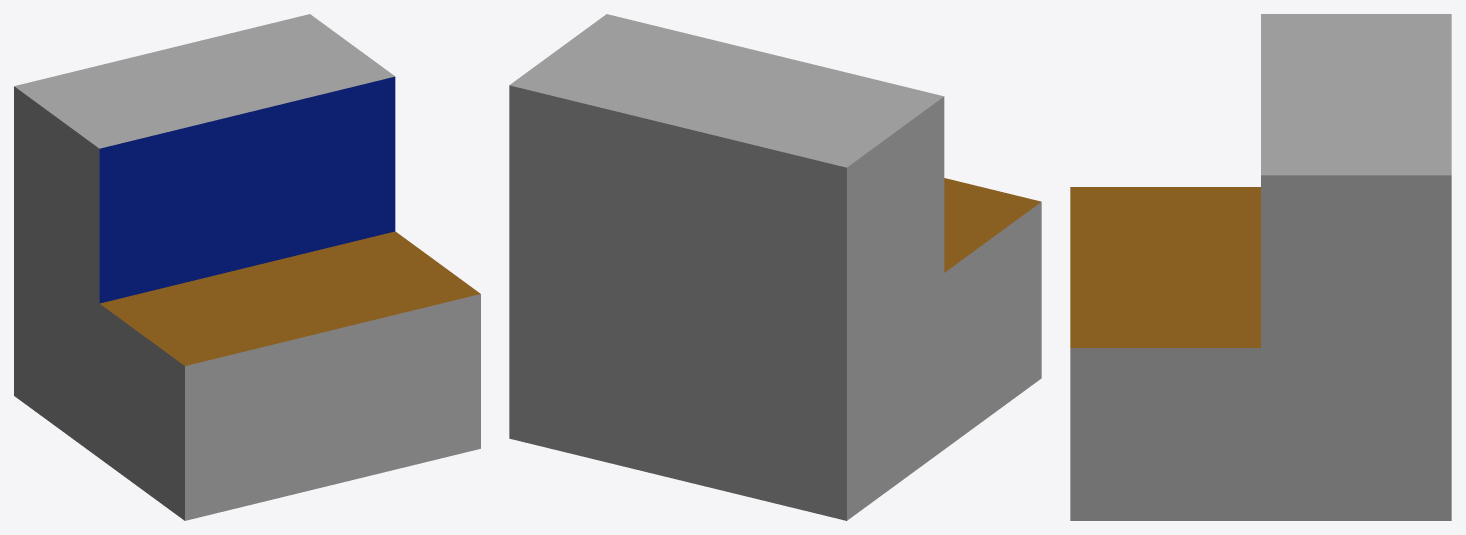
File: case_63.fbx
3 views of the same model, side by side, from view 1: azimuth 30°, elevation 25°; view 2: azimuth 150°, elevation 25°; view 3: azimuth 270°, elevation 25° (orthographic). The views are drawn at different scales.
Parts seen in each view (by area): view 1: case_63; view 2: case_63; view 3: case_63.
Part boxes in pixels (box(x1,y1,x2,y2)): case_63: box(14, 14, 480, 520); case_63: box(509, 14, 1041, 520); case_63: box(1070, 14, 1451, 520).
Bounding box in the file's own units: 1 × 1 × 1.
